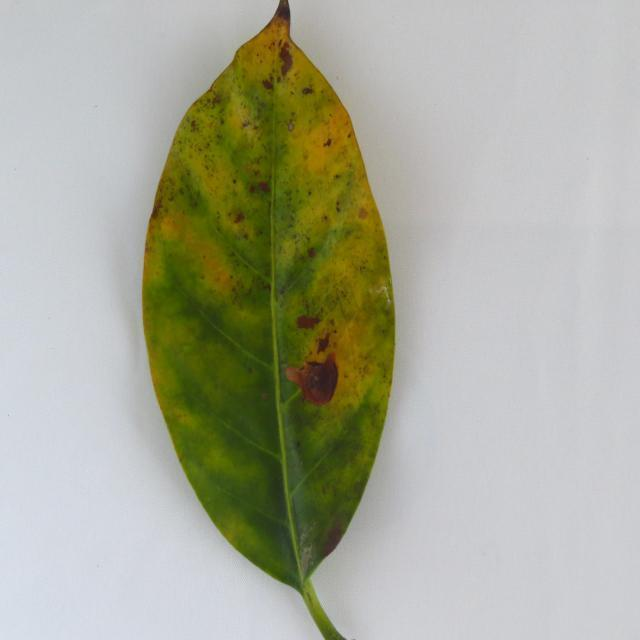DeficienciaNutricional-Potasio: (142, 0, 395, 638)
